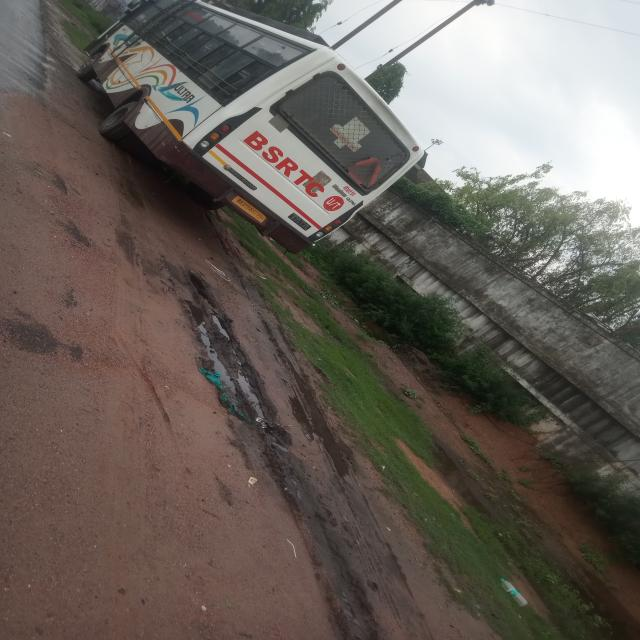Bus: (72, 0, 443, 242)
